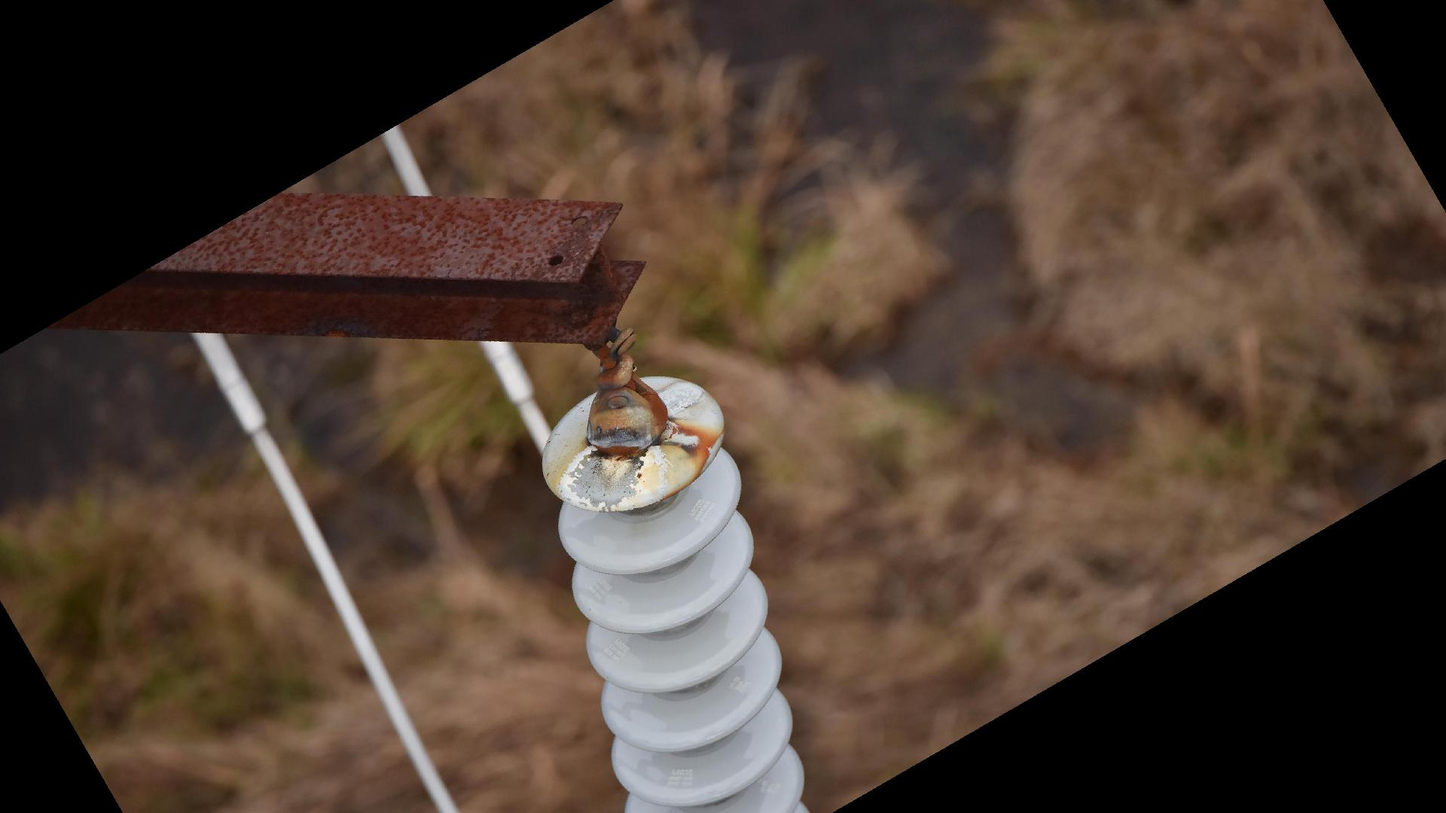insulator: (537, 370, 815, 813)
insulator_flashover: (556, 438, 667, 519)
